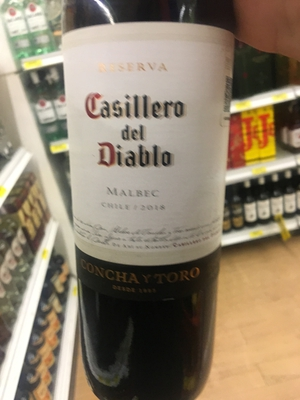casillero del diablo malbec: (48, 5, 255, 400)
